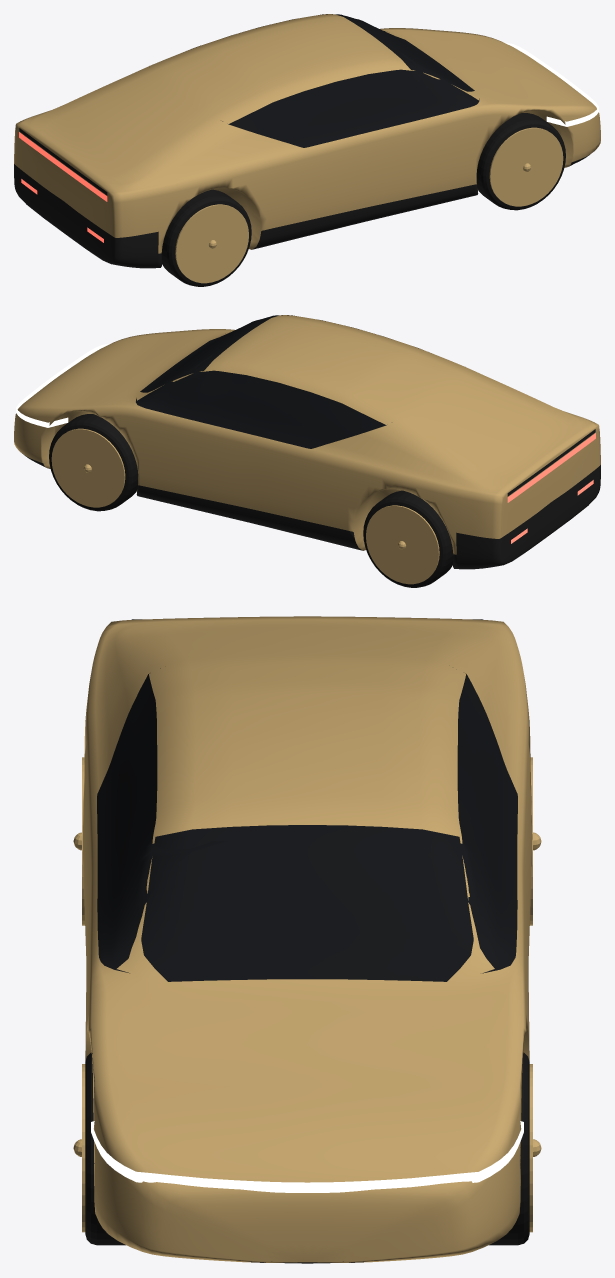
Rendered from cybercab.glb.
3 renders of one model, top to bottom at view 1: azimuth 30°, elevation 25°; view 2: azimuth 150°, elevation 25°; view 3: azimuth 270°, elevation 25°, orthographic. The views are drawn at different scales.
Parts seen in each view (by area): view 1: Body, Wheels, Windows, Rear, Lamp; view 2: Body, Wheels, Windows, Rear, Lamp; view 3: Body, Windows, Wheels, Lamp.
Boxes of the visible parts, box(x1,y1,x2,y2) form: Body: box(14, 14, 600, 268); Wheels: box(161, 113, 565, 286); Windows: box(193, 14, 479, 147); Rear: box(19, 128, 107, 242); Lamp: box(504, 42, 598, 126); Body: box(14, 315, 600, 569); Wheels: box(49, 414, 453, 587); Windows: box(136, 315, 418, 448); Rear: box(507, 429, 595, 543); Lamp: box(16, 343, 110, 427); Body: box(82, 616, 532, 1263); Windows: box(97, 668, 517, 973); Wheels: box(73, 757, 541, 1245); Lamp: box(91, 1121, 523, 1192).
Bounding box in the file's own units: 4.48 × 1.4 × 1.81.
